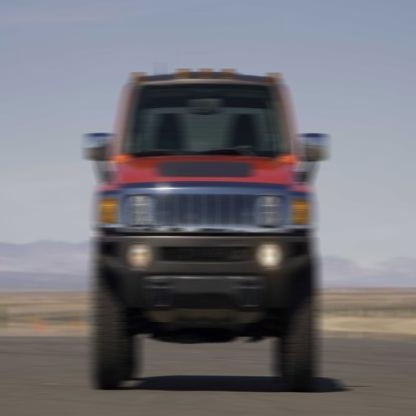Vehicle: (85, 66, 329, 393)
